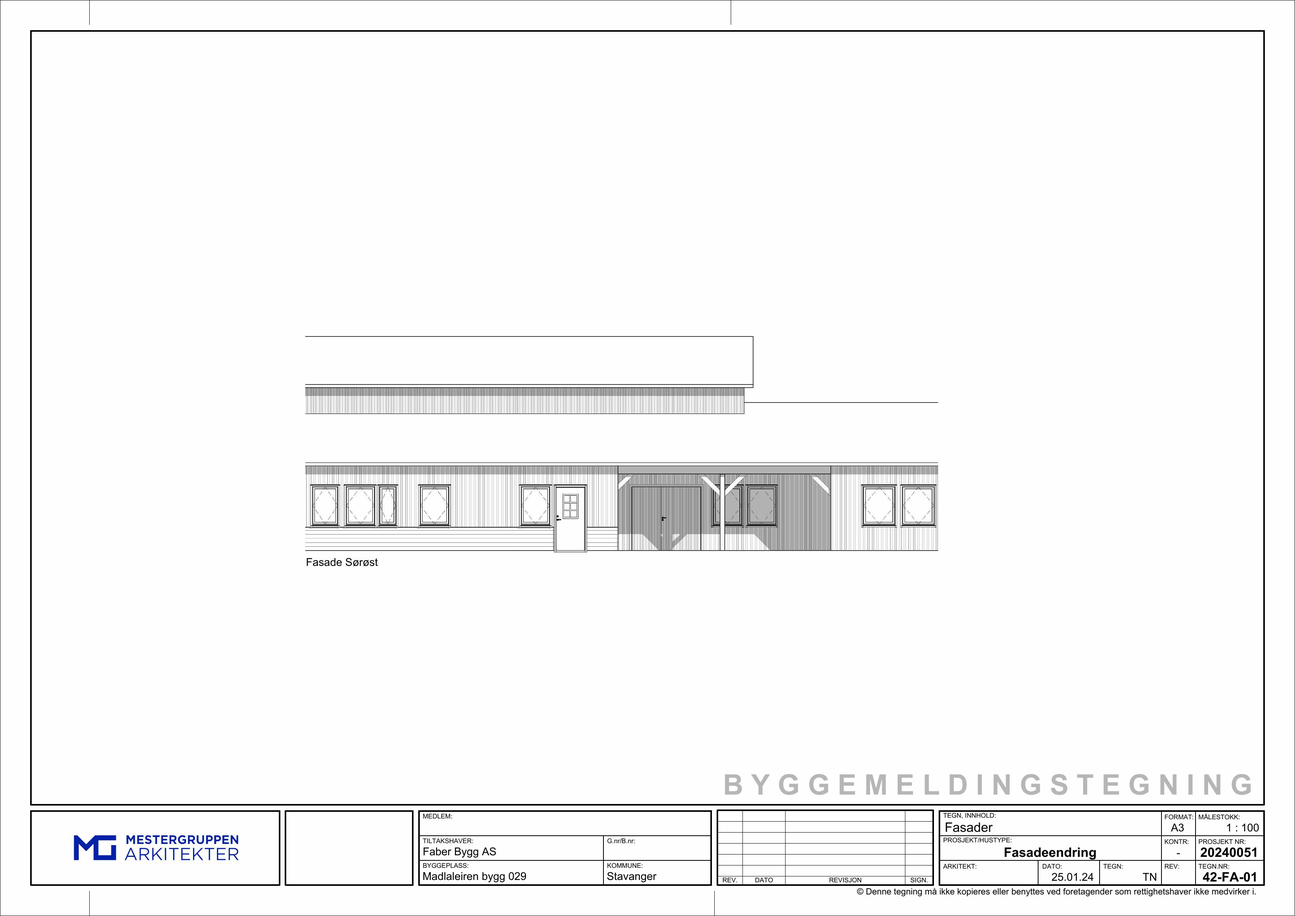fasade: (304, 336, 939, 553)
